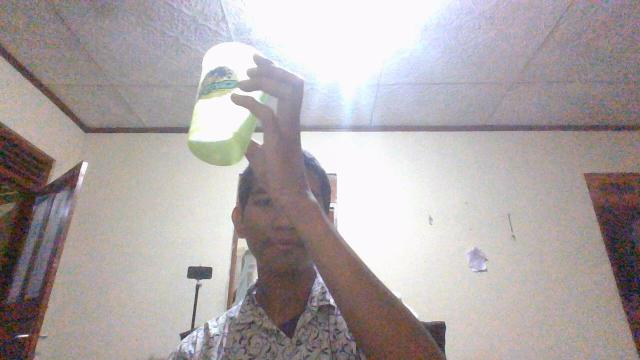botol-hijau: (185, 40, 273, 167)
